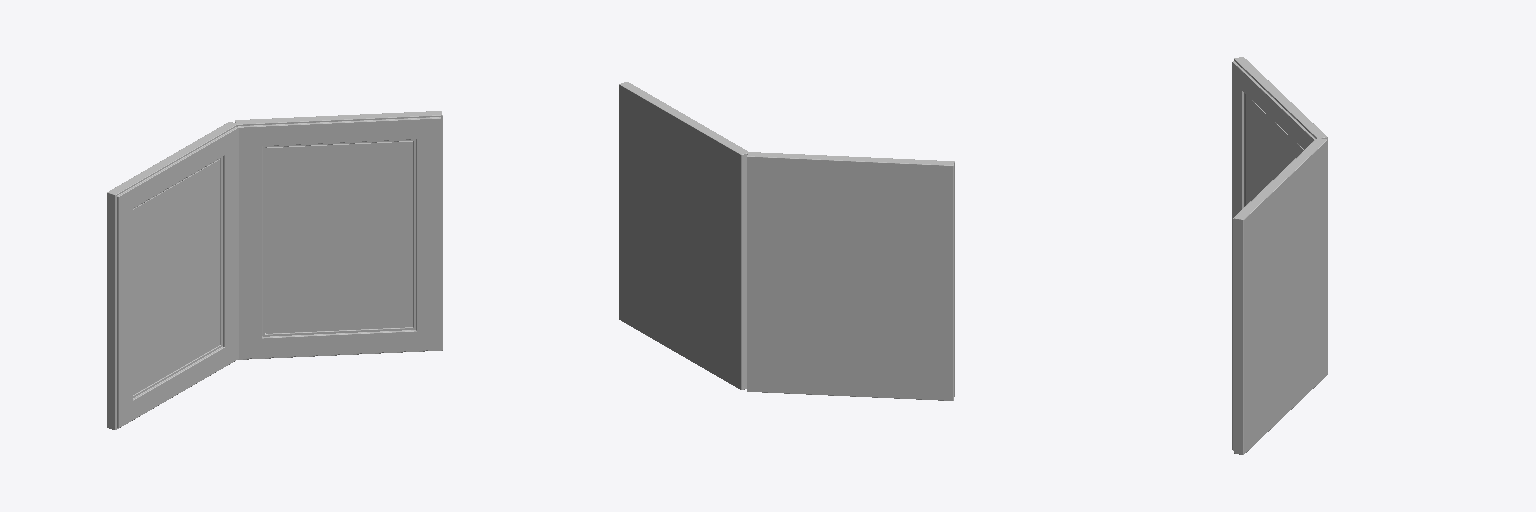
Rendered from Photo_Frame.obj.
The picture shows the model from 3 angles: view 1: azimuth 30°, elevation 25°; view 2: azimuth 150°, elevation 25°; view 3: azimuth 270°, elevation 25°; orthographic projection.
Parts seen in each view (by area): view 1: polySurface2, polySurface4 pCube4, polySurface1 pCube3; view 2: polySurface2; view 3: polySurface2, polySurface1 pCube3.
Part boxes in pixels (bbox=[...]): polySurface2: bbox=[107, 111, 442, 429]; polySurface4 pCube4: bbox=[266, 141, 412, 333]; polySurface1 pCube3: bbox=[133, 159, 219, 394]; polySurface2: bbox=[619, 82, 954, 400]; polySurface2: bbox=[1232, 57, 1327, 454]; polySurface1 pCube3: bbox=[1246, 95, 1303, 204].
Bounding box in the file's own units: 1.49 × 1 × 0.3681.